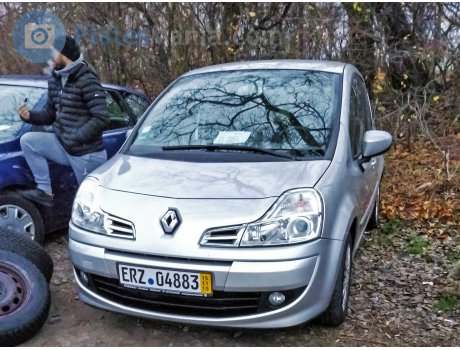License Plates: (120, 264, 202, 287)
